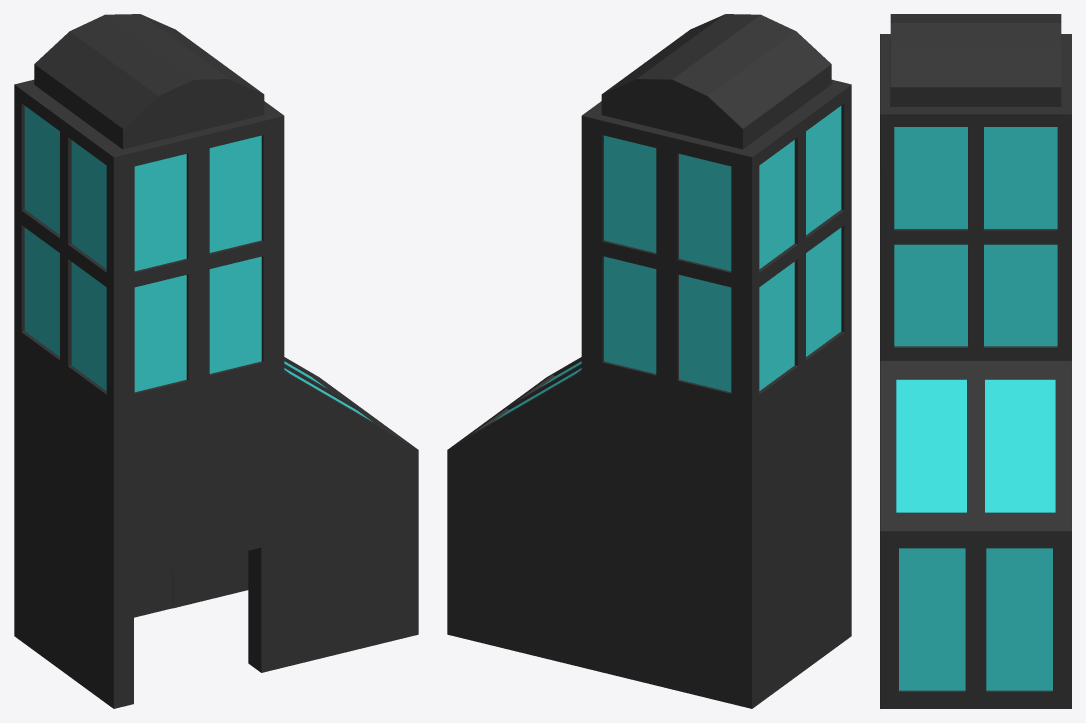
The model's file is Residential_Tower_07.fbx.
3 renders of one model, left to right at view 1: azimuth 30°, elevation 25°; view 2: azimuth 150°, elevation 25°; view 3: azimuth 270°, elevation 25°, orthographic. The views are drawn at different scales.
Visible parts, largest first — view 1: Residential_Tower; view 2: Residential_Tower; view 3: Residential_Tower.
Boxes of the visible parts, box(x1,y1,x2,y2) form: Residential_Tower: box(14, 14, 418, 708); Residential_Tower: box(447, 14, 851, 708); Residential_Tower: box(880, 14, 1071, 708).
Size of the model in its own units: 1761 by 3337 by 995.
